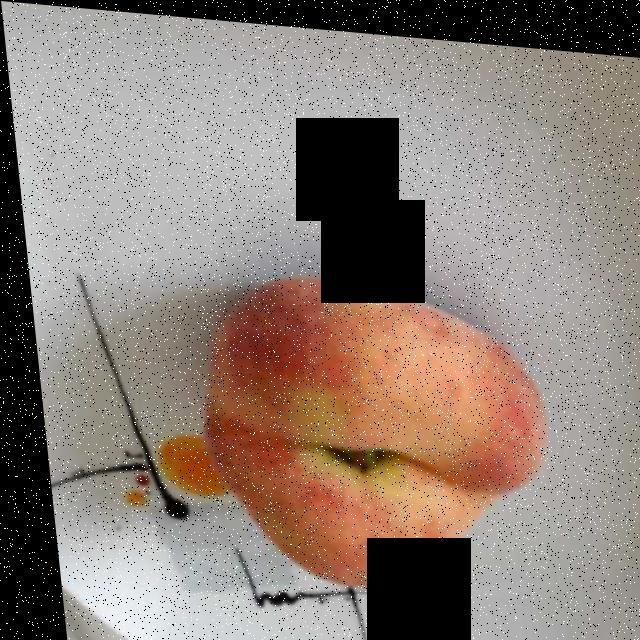peach: (197, 278, 527, 581)
